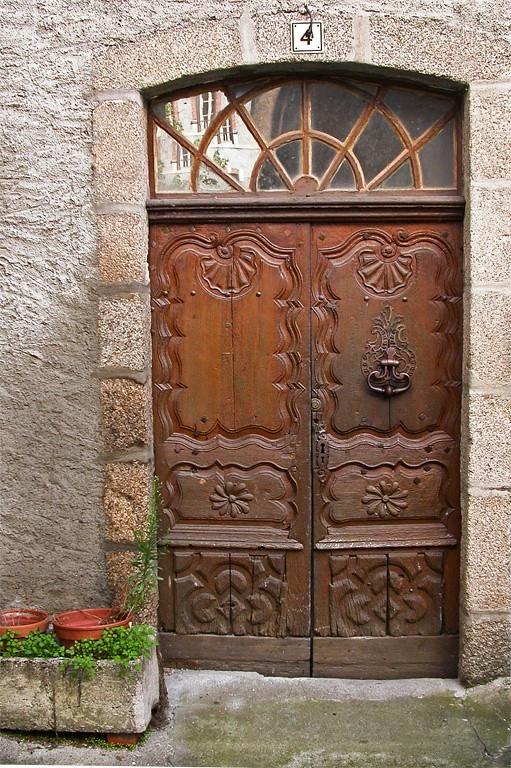door: (148, 203, 464, 678)
